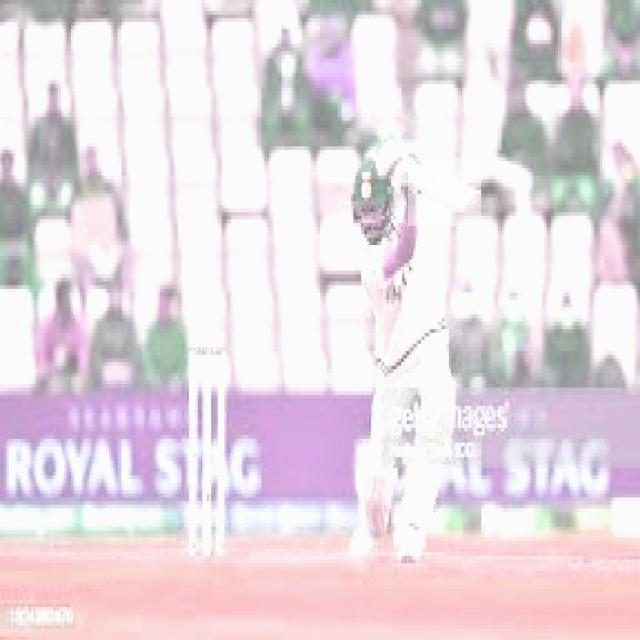bat: (377, 148, 487, 217)
toe: (450, 188, 491, 208)
